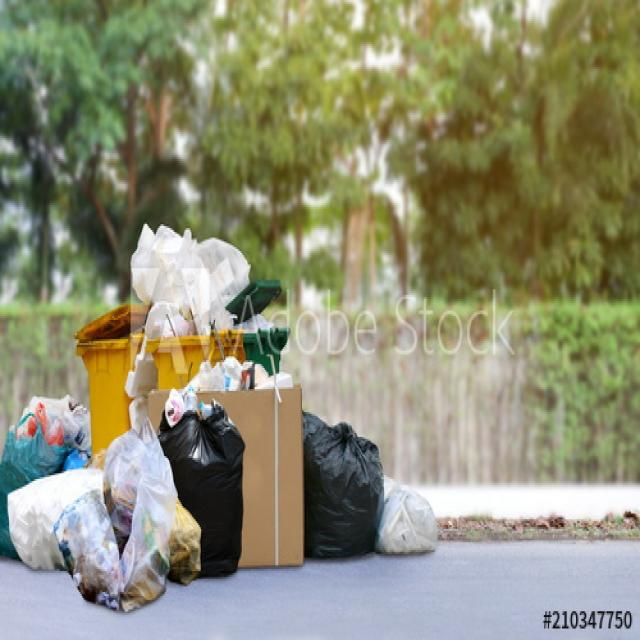plastic: (132, 225, 235, 315), (384, 486, 445, 568)
plastic_bag: (173, 390, 246, 570), (15, 476, 116, 601), (307, 407, 386, 551)
